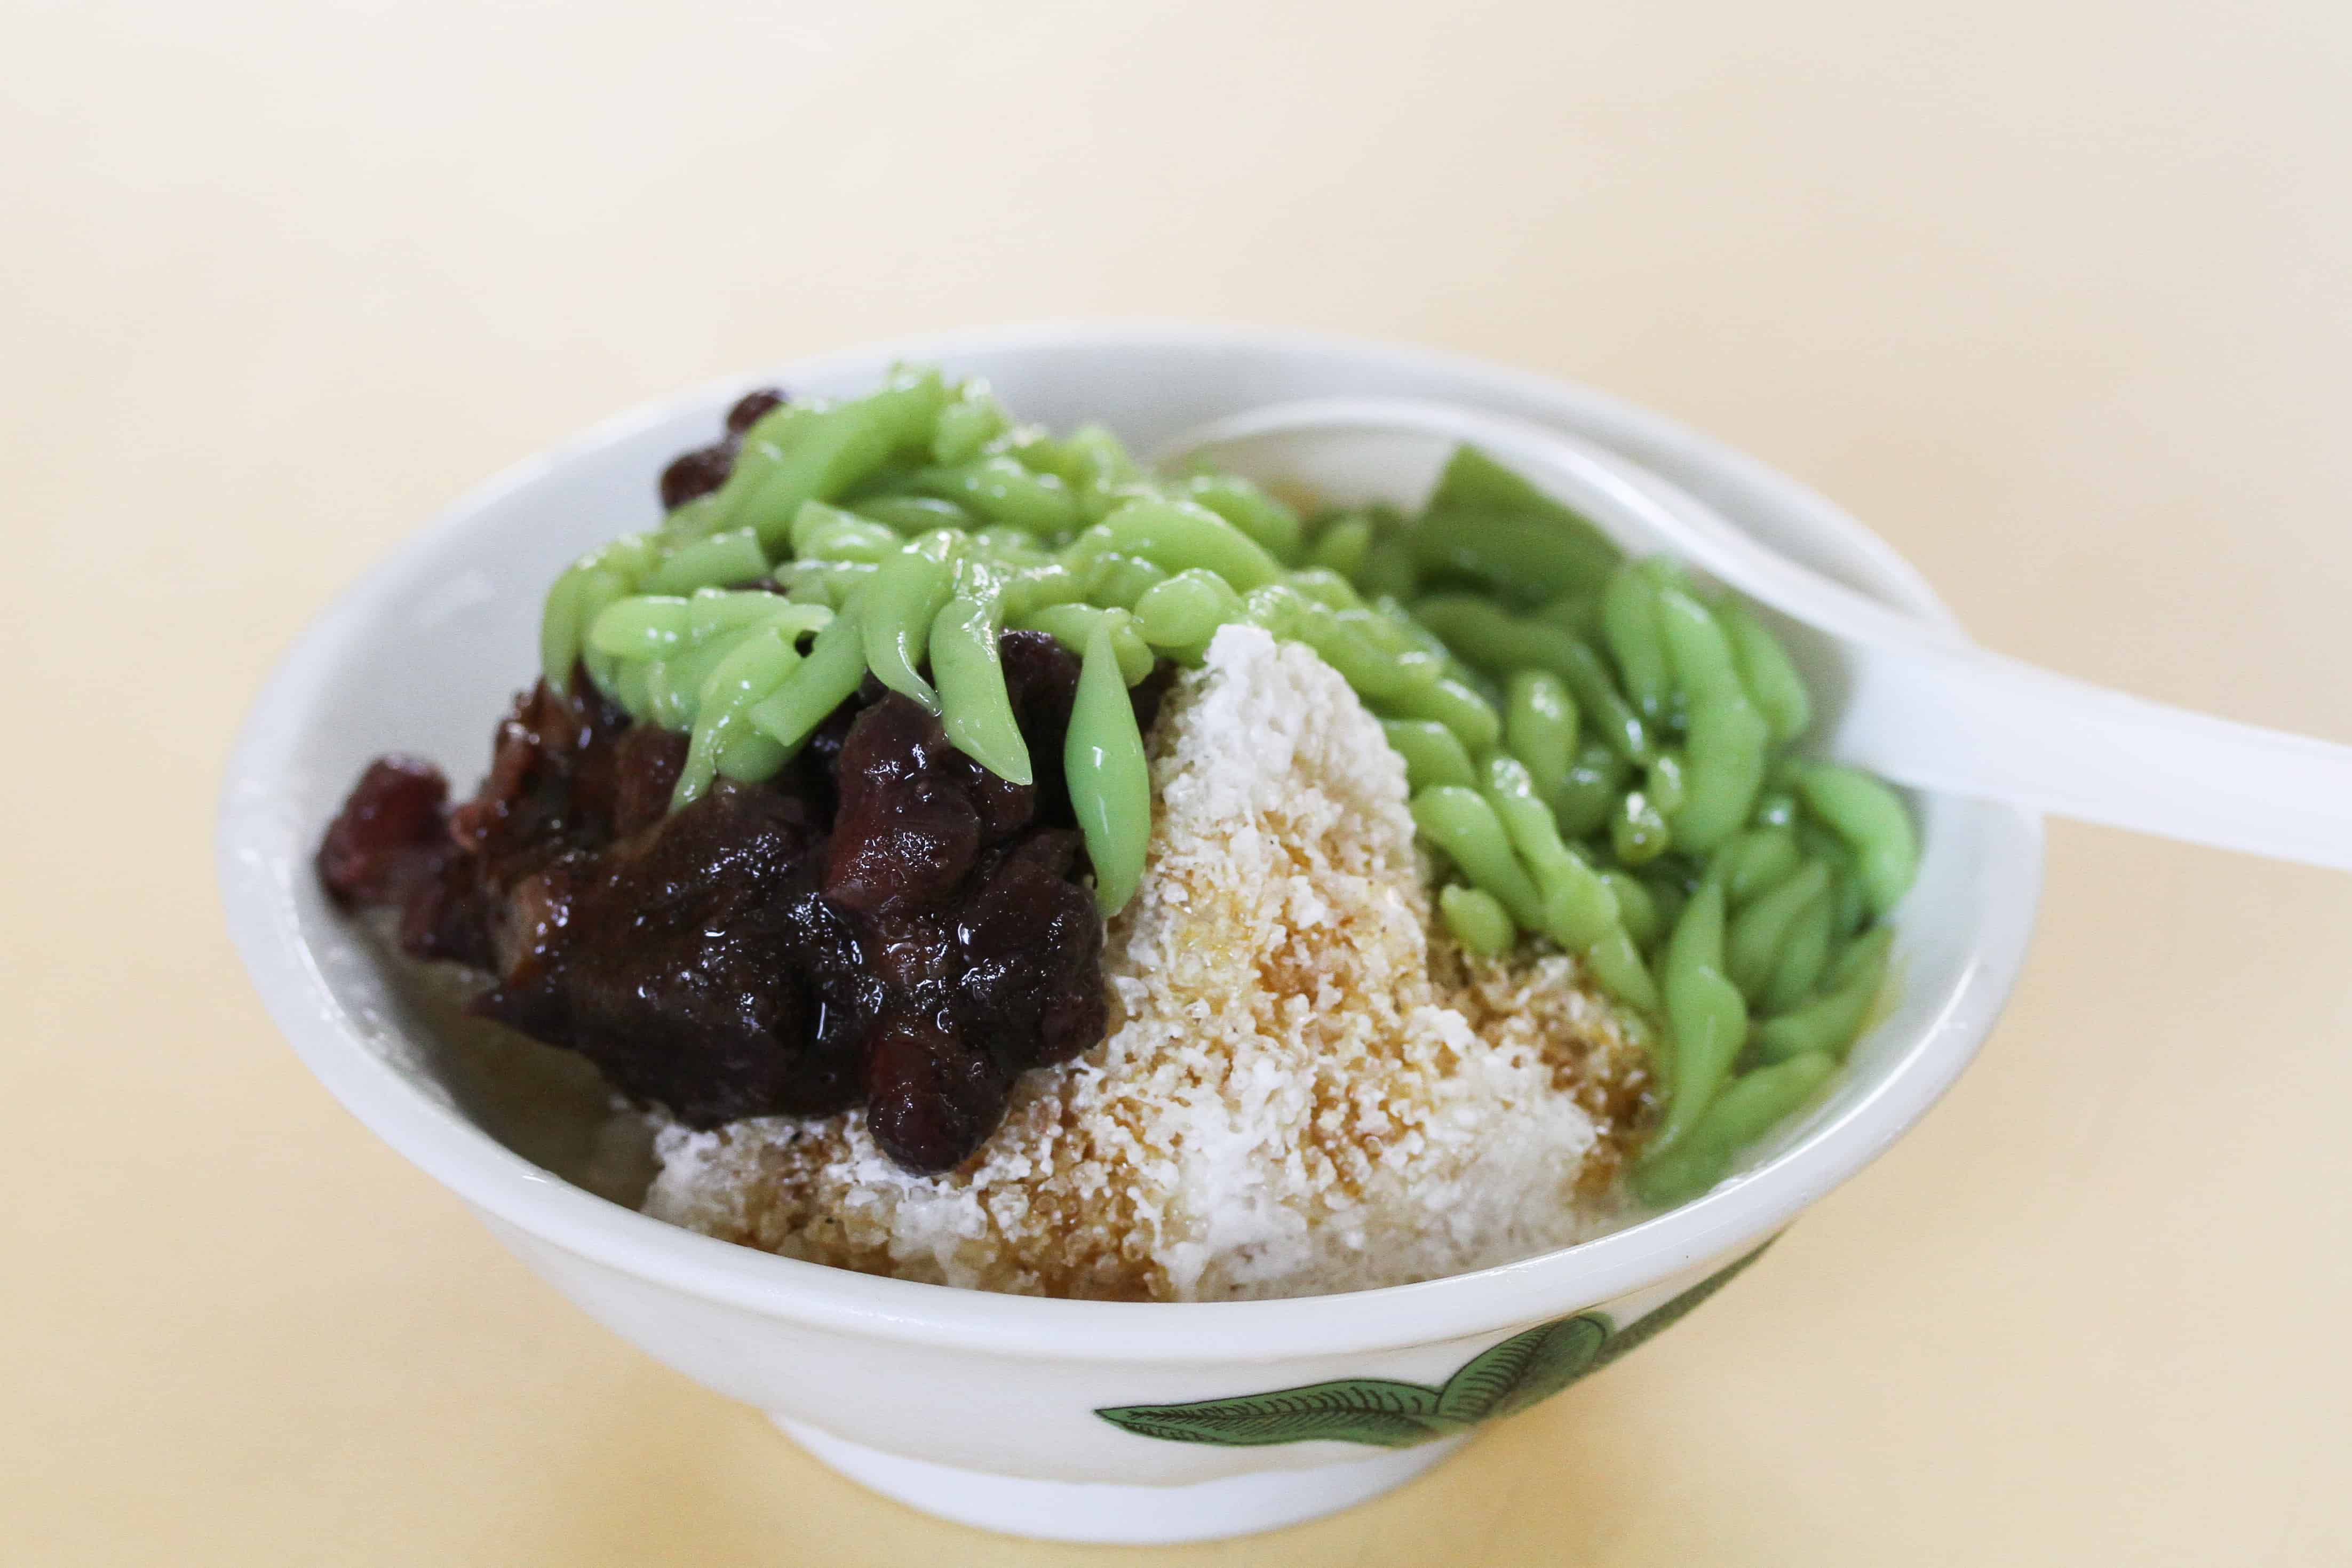Chendol: (334, 266, 1955, 1353)
